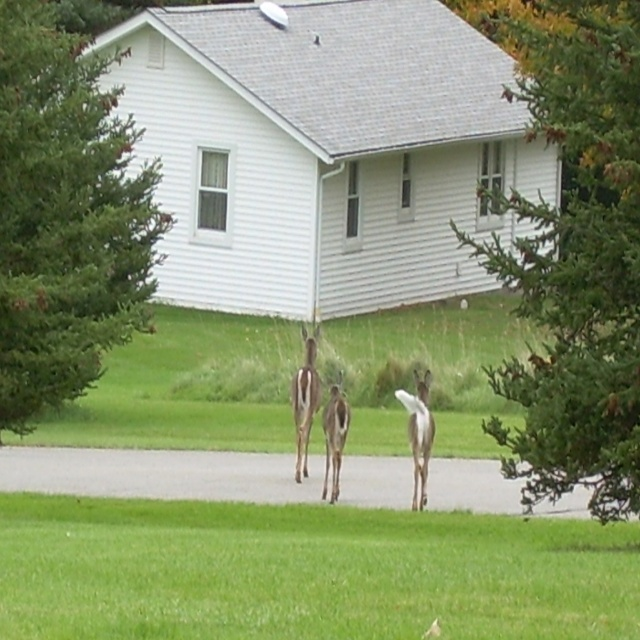Deer: (396, 369, 434, 512), (294, 323, 318, 483), (325, 385, 350, 502)
